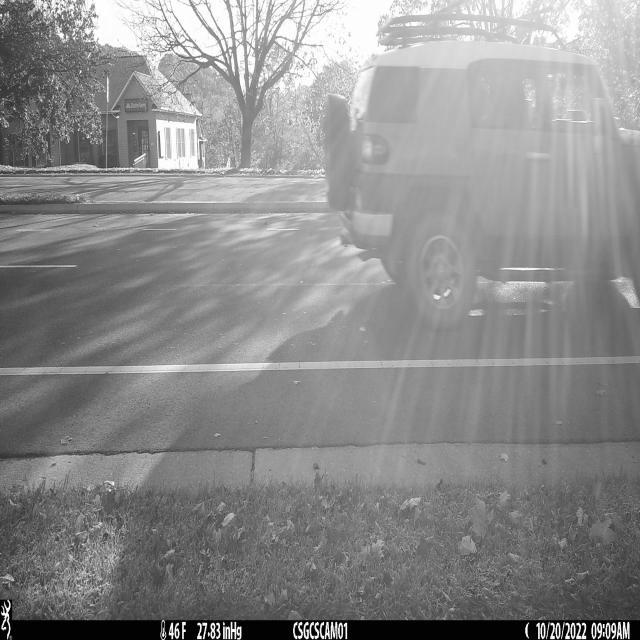SUV: (325, 12, 640, 313)
